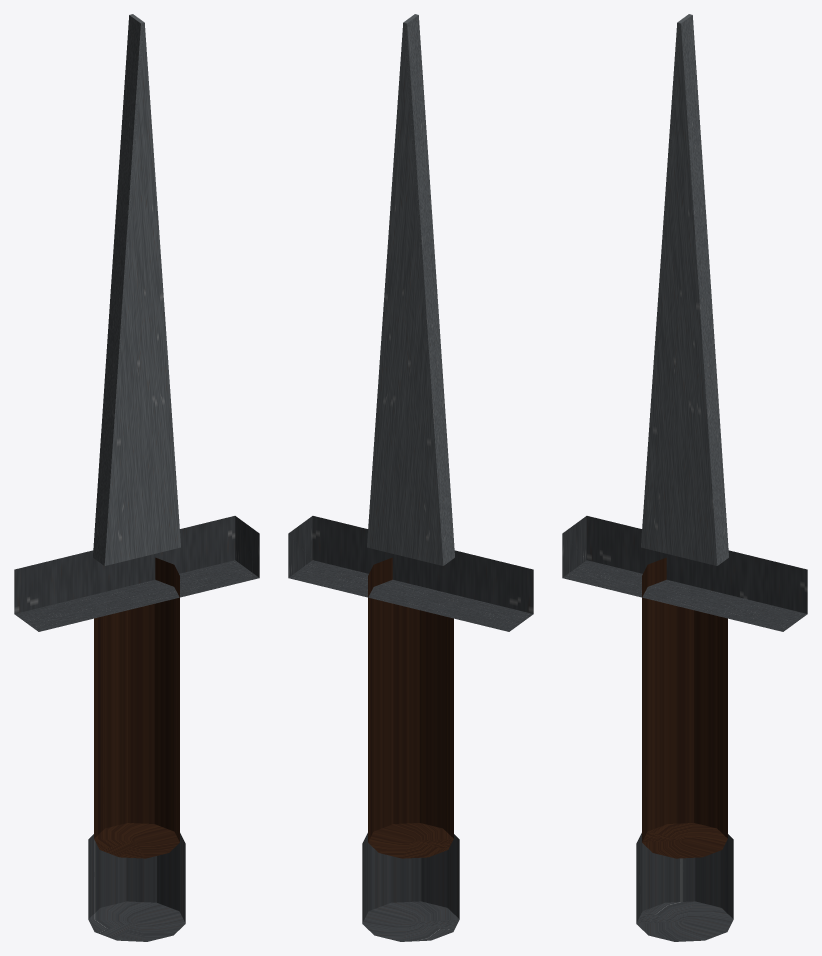
File: dagger.glb
3 views of the same model, side by side, from view 1: azimuth 30°, elevation 25°; view 2: azimuth 150°, elevation 25°; view 3: azimuth 330°, elevation 25° (orthographic).
Parts seen in each view (by area): view 1: dagger; view 2: dagger; view 3: dagger.
Boxes of the visible parts, bbox=[...] form: dagger: bbox=[14, 14, 259, 941]; dagger: bbox=[288, 14, 533, 941]; dagger: bbox=[562, 14, 807, 941].
Bounding box in the file's own units: 0.13 × 0.5075 × 0.0476.
Materials: 3 (3 with a texture image).
